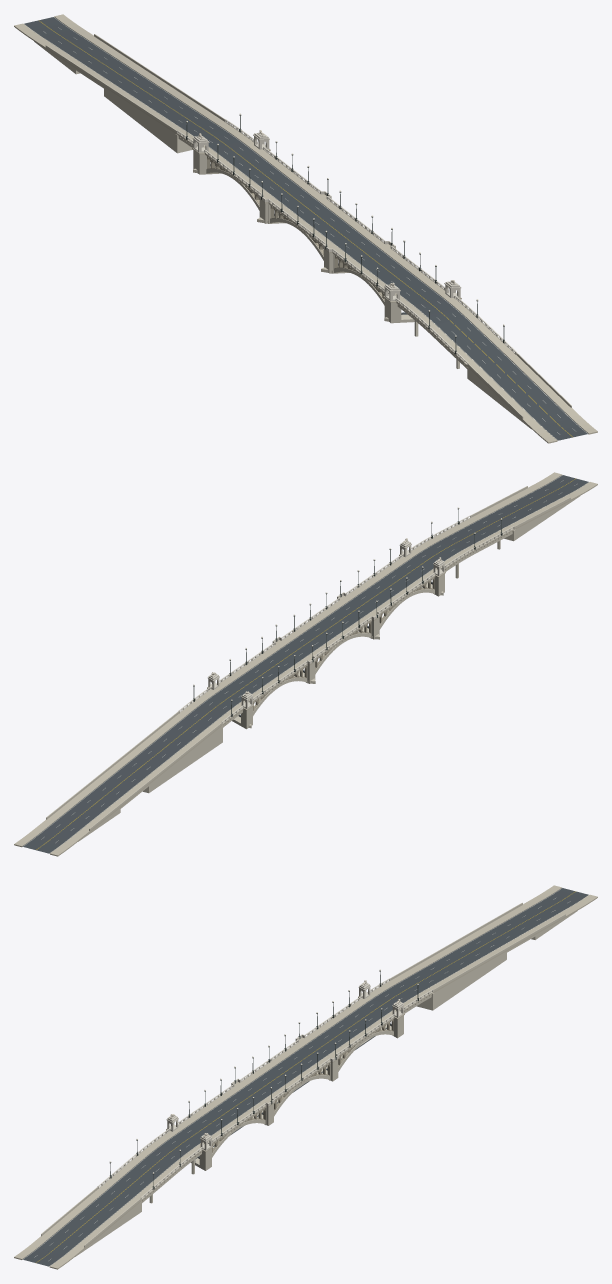
Rendered from centre-street-bridge-near.glb.
The picture shows the model from 3 angles, top to bottom: view 1: azimuth 30°, elevation 25°; view 2: azimuth 150°, elevation 25°; view 3: azimuth 330°, elevation 25°; orthographic projection. The views are drawn at different scales.
Parts seen in each view (by area): view 1: centre-street-bridge-0-asphalt, centre-street-bridge-1-asphalt, centre-street-bridge-1-deck, centre-street-bridge-0-deck, centre-street-bridge-1-concrete, centre-street-bridge-0-concrete, centre-street-bridge-0-balustrade, centre-street-bridge-1-balustrade, centre-street-bridge-1-paint, centre-street-bridge-0-paint; view 2: centre-street-bridge-1-asphalt, centre-street-bridge-0-asphalt, centre-street-bridge-1-deck, centre-street-bridge-0-deck, centre-street-bridge-1-concrete, centre-street-bridge-0-concrete, centre-street-bridge-0-balustrade, centre-street-bridge-1-balustrade, centre-street-bridge-1-paint; view 3: centre-street-bridge-0-asphalt, centre-street-bridge-1-asphalt, centre-street-bridge-1-deck, centre-street-bridge-0-deck, centre-street-bridge-1-concrete, centre-street-bridge-0-concrete, centre-street-bridge-0-balustrade, centre-street-bridge-1-balustrade, centre-street-bridge-0-paint, centre-street-bridge-1-paint.
Boxes of the visible parts, x1,y1,x2,y2 form: centre-street-bridge-0-asphalt: (312,220,588,440); centre-street-bridge-1-asphalt: (24,17,342,226); centre-street-bridge-1-deck: (14,14,350,230); centre-street-bridge-0-deck: (302,217,597,443); centre-street-bridge-1-concrete: (34,34,323,260); centre-street-bridge-0-concrete: (304,231,571,429); centre-street-bridge-0-balustrade: (269,198,516,365); centre-street-bridge-1-balustrade: (176,119,351,228); centre-street-bridge-1-paint: (24,17,341,226); centre-street-bridge-0-paint: (312,220,587,440); centre-street-bridge-1-asphalt: (22,626,339,853); centre-street-bridge-0-asphalt: (313,475,588,633); centre-street-bridge-1-deck: (14,624,348,856); centre-street-bridge-0-deck: (306,472,597,635); centre-street-bridge-1-concrete: (46,633,371,841); centre-street-bridge-0-concrete: (348,486,580,639); centre-street-bridge-0-balustrade: (283,515,514,656); centre-street-bridge-1-balustrade: (178,621,348,724); centre-street-bridge-1-paint: (23,627,339,853); centre-street-bridge-0-asphalt: (22,1068,298,1266); centre-street-bridge-1-asphalt: (272,888,588,1075); centre-street-bridge-1-deck: (264,885,597,1079); centre-street-bridge-0-deck: (14,1066,307,1269); centre-street-bridge-1-concrete: (300,902,577,1086); centre-street-bridge-0-concrete: (41,1075,329,1256); centre-street-bridge-0-balustrade: (97,1041,329,1199); centre-street-bridge-1-balustrade: (264,978,433,1076); centre-street-bridge-0-paint: (23,1068,298,1266); centre-street-bridge-1-paint: (272,888,588,1074).
Size of the model in its own units: 32.7 by 17.26 by 425.
